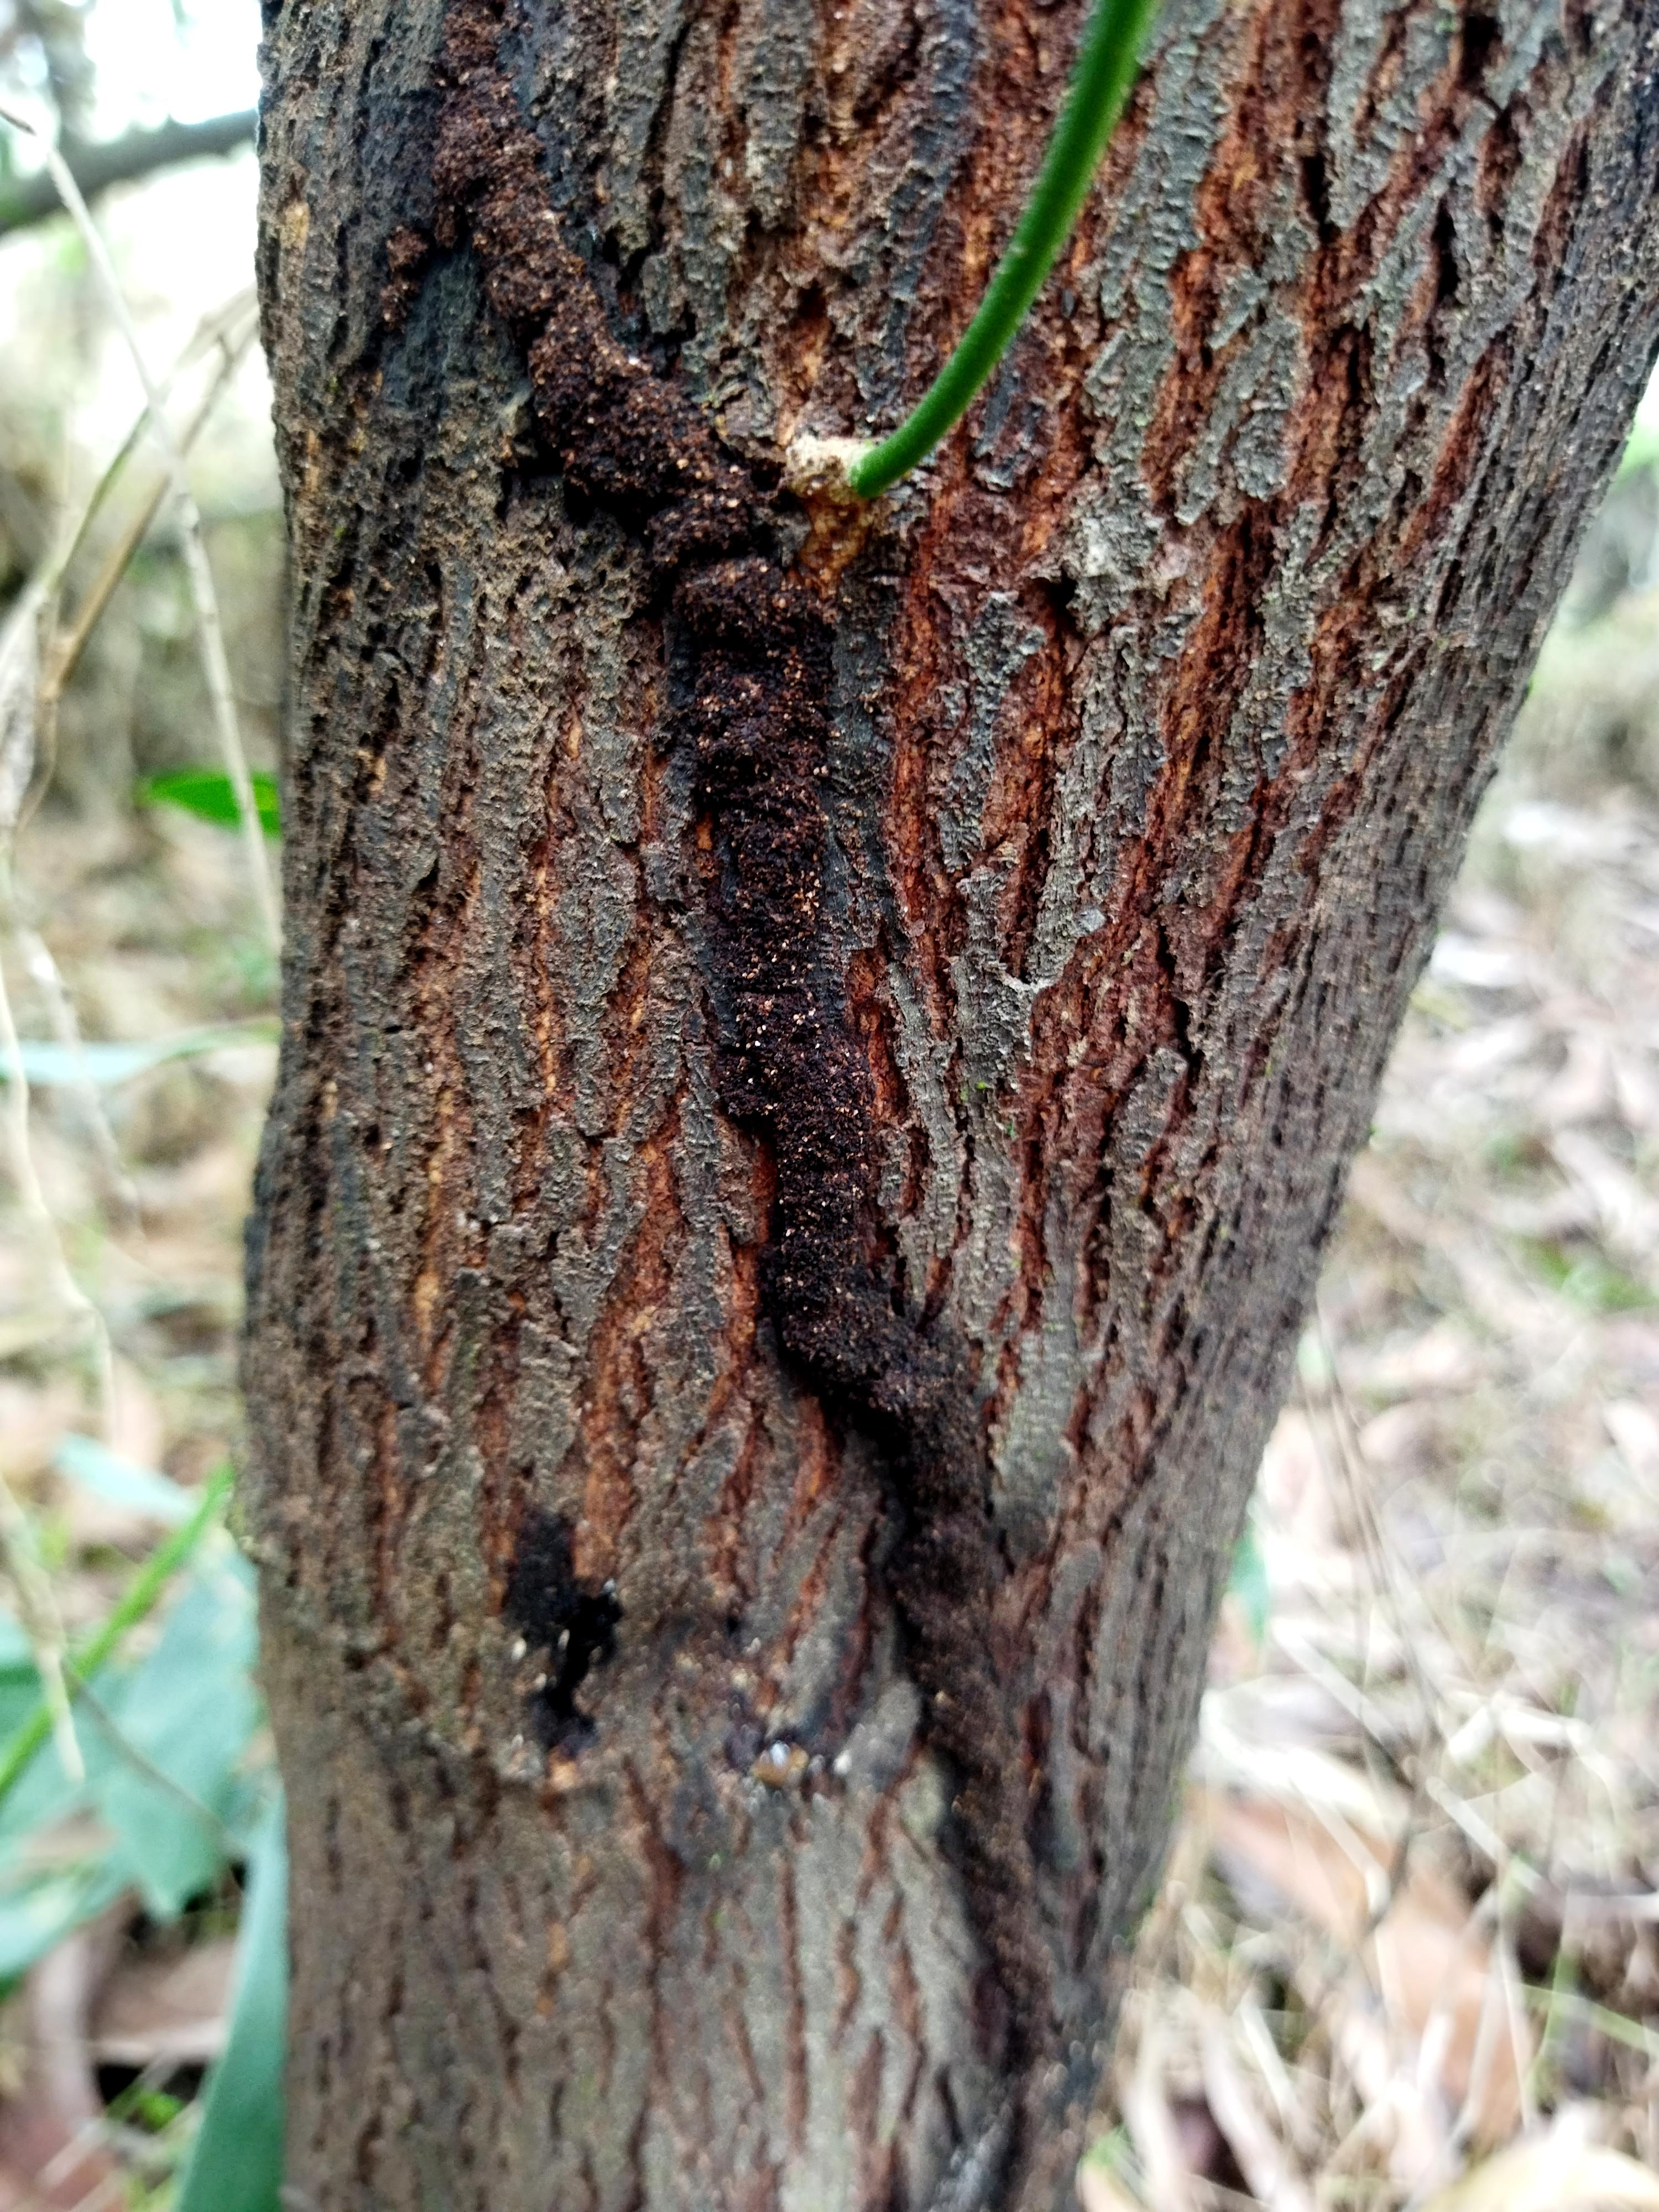Stem Deformation: (903, 17, 1345, 1238), (328, 732, 683, 1867)
